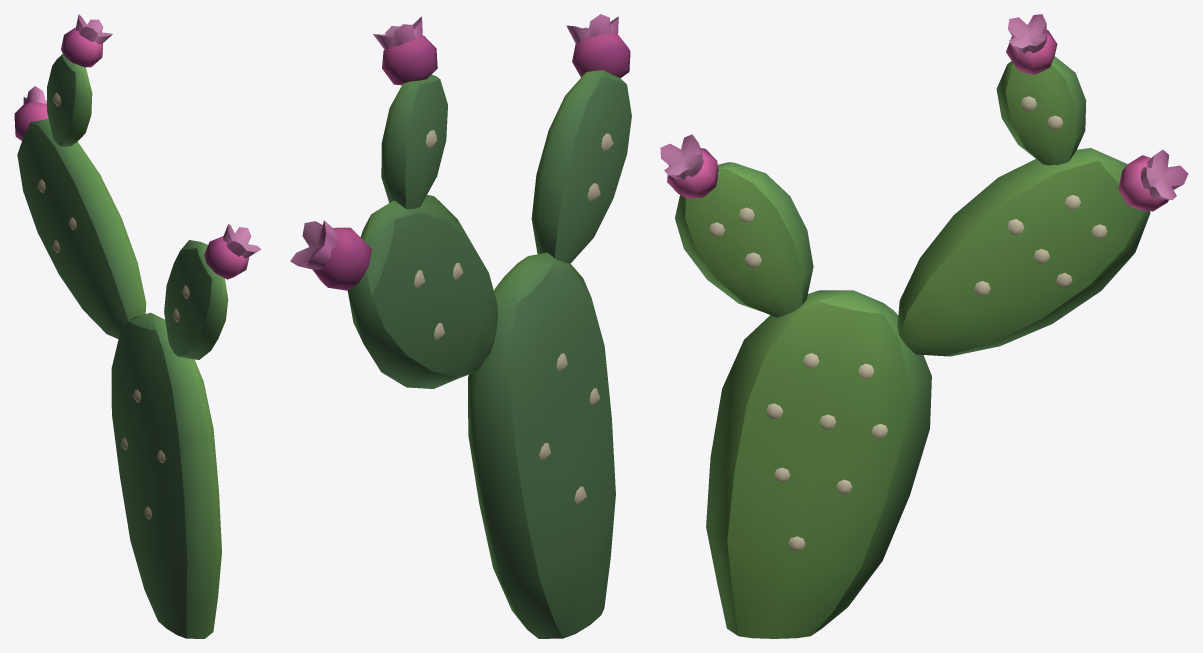
Rendered from Cactus_Flowers_Remake.glb.
The picture shows the model from 3 angles, left to right: view 1: azimuth 30°, elevation 25°; view 2: azimuth 150°, elevation 25°; view 3: azimuth 270°, elevation 25°; orthographic projection. The views are drawn at different scales.
Visible parts, largest first — view 1: Cactus_Flowers_Remake; view 2: Cactus_Flowers_Remake; view 3: Cactus_Flowers_Remake.
Boxes of the visible parts, x1=… form: Cactus_Flowers_Remake: x1=14, y1=14, x2=261, y2=638; Cactus_Flowers_Remake: x1=290, y1=14, x2=631, y2=638; Cactus_Flowers_Remake: x1=660, y1=14, x2=1188, y2=638.
Size of the model in its own units: 0.1221 by 0.9381 by 0.7256.
